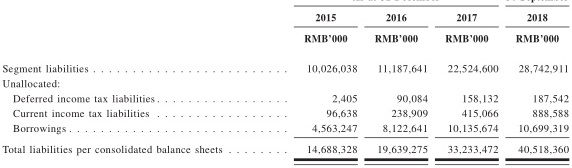column: (1, 1, 288, 168), (303, 1, 358, 168), (374, 1, 429, 168), (444, 1, 499, 168), (516, 1, 570, 168)
row: (1, 33, 572, 43), (1, 79, 572, 89), (1, 94, 572, 104), (1, 109, 572, 119), (1, 124, 572, 134), (1, 145, 572, 155), (1, 13, 571, 23), (1, 64, 572, 73)
